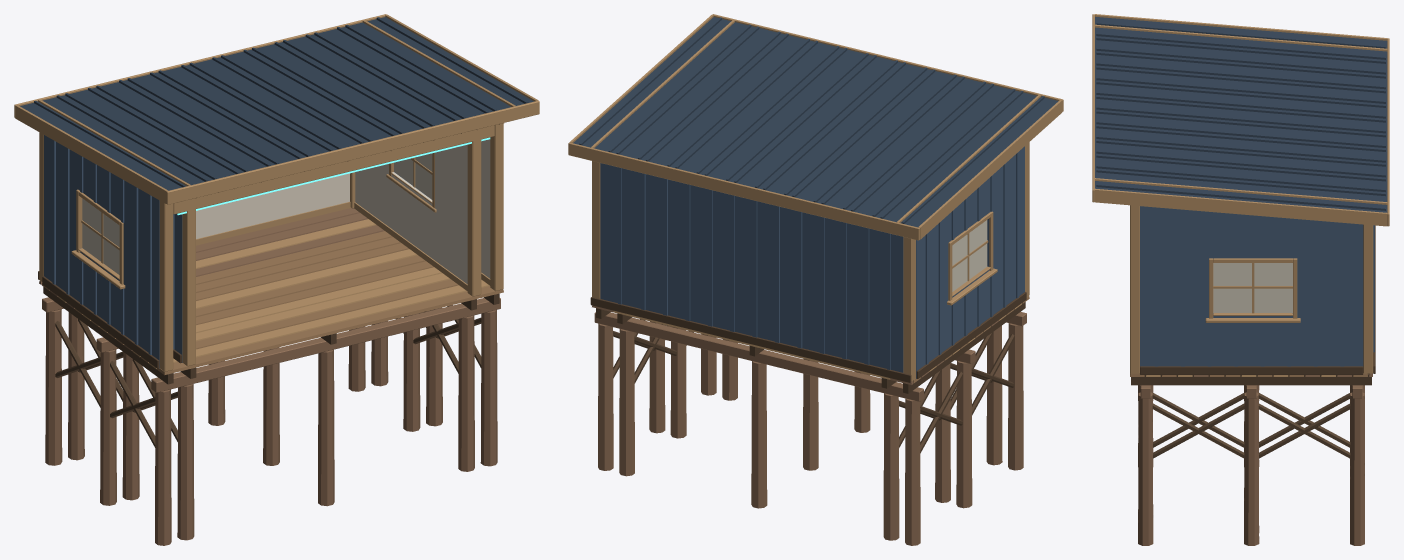
Rendered from hut.glb.
3 views of the same model, side by side, from view 1: azimuth 30°, elevation 25°; view 2: azimuth 150°, elevation 25°; view 3: azimuth 270°, elevation 25° (orthographic). The views are drawn at different scales.
Visible parts, largest first — view 1: shell_A, shell_B, floor_B, piles_A, piles_B, floor_A, glow_A; view 2: shell_A, shell_B, piles_A, piles_B, floor_A; view 3: shell_B, shell_A, piles_B, piles_A, floor_B.
Part boxes in pixels (x1,y1,x2,y2): shell_A: (38,20,516,366); shell_B: (14,14,539,371); floor_B: (39,213,503,375); piles_A: (68,299,478,540); piles_B: (42,287,500,545); floor_A: (196,208,442,361); glow_A: (200,143,467,209); shell_A: (590,20,1040,377); shell_B: (568,14,1063,382); piles_A: (616,313,1002,540); piles_B: (594,302,1026,545); floor_A: (613,311,890,379); shell_B: (1092,14,1389,374); shell_A: (1092,24,1389,204); piles_B: (1131,373,1371,545); piles_A: (1138,385,1364,532); floor_B: (1130,373,1372,376).
Bounding box in the file's own units: 6.58 × 6.35 × 4.71.
